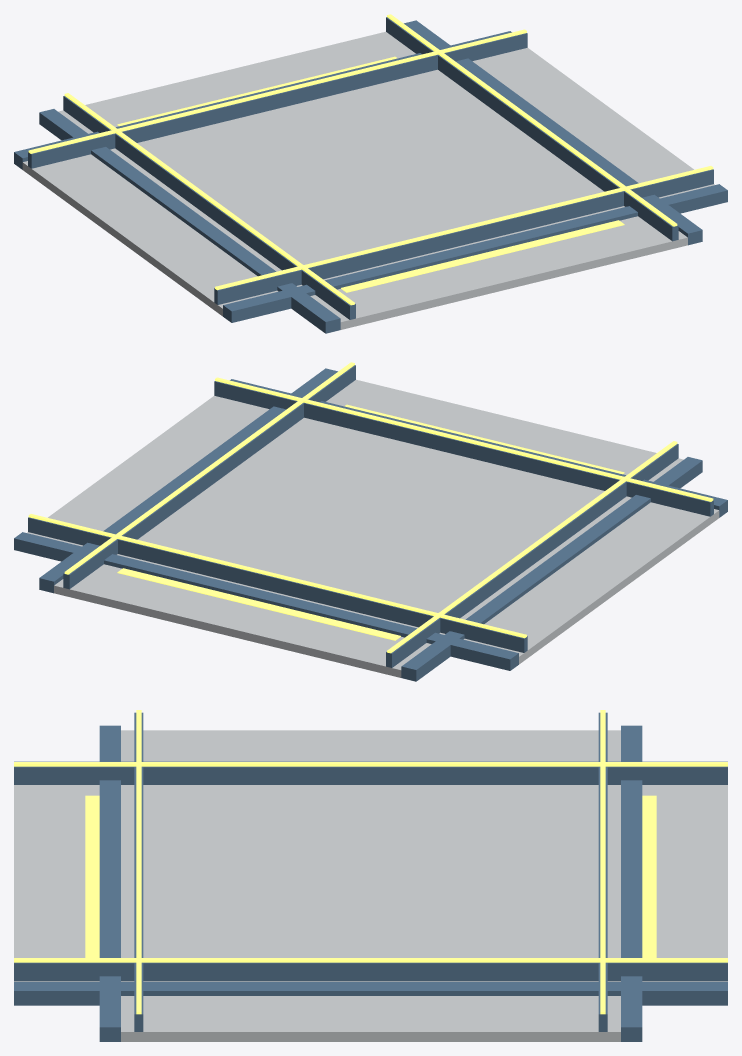
Rendered from road_industrial_x_cross.glb.
The picture shows the model from 3 angles, top to bottom: view 1: azimuth 30°, elevation 25°; view 2: azimuth 150°, elevation 25°; view 3: azimuth 270°, elevation 25°; orthographic projection. The views are drawn at different scales.
Parts seen in each view (by area): view 1: body; view 2: body; view 3: body.
Boxes of the visible parts, bbox=[...] form: body: bbox=[14, 14, 727, 333]; body: bbox=[14, 362, 727, 681]; body: bbox=[14, 710, 727, 1041].
Size of what is drawn, in the model's own units: 8 by 0.37 by 8.
